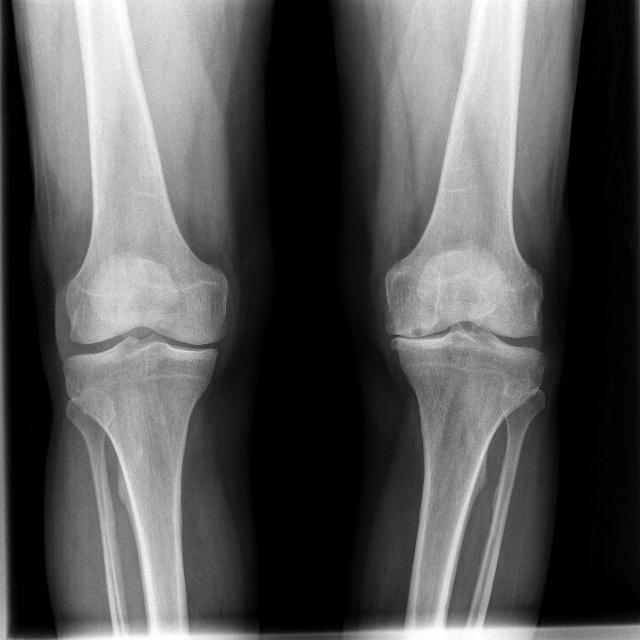Knee: (60, 269, 228, 423), (379, 271, 546, 416)
